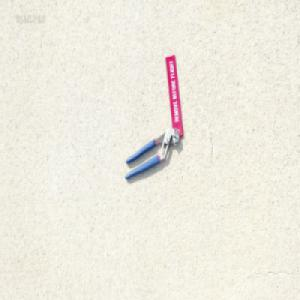Label: (165, 54, 184, 136)
Pliers: (124, 126, 179, 181)
